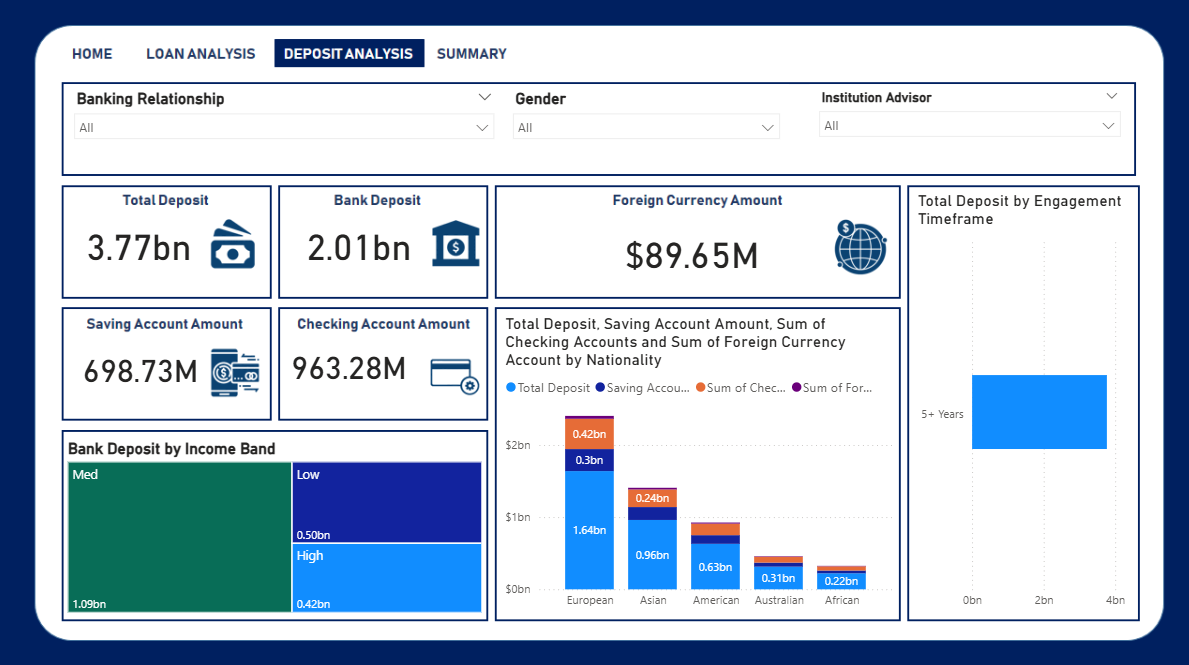

Layout of this report page (visuals, bound fields, positions):
{"tool":"powerbi","page":{"name":"Deposite Analysis","canvas":[1280,720],"ordinal":2},"visuals":[{"type":"actionButton","box":[63.3,36.7,76.7,41.7],"z":0},{"type":"actionButton","box":[151.7,38.3,131.7,40],"z":1000},{"type":"actionButton","box":[458.3,38.3,101.7,40],"z":2000},{"type":"card","fields":{"Values":["banking_case customer.Total Deposit"]},"box":[80,205,143.3,115],"z":3000},{"type":"card","fields":{"Values":["Sum(banking_case customer.Bank Deposits)"]},"box":[315,205,143.3,115],"z":4000},{"type":"card","fields":{"Values":["banking_case customer.Saving Account Amount"]},"box":[70,336.7,165,115],"z":5000},{"type":"card","fields":{"Values":["Sum(banking_case customer.Checking Accounts)"]},"box":[291.7,335,166.7,115],"z":6000},{"type":"treemap","title":"Bank Deposit by Income Band","fields":{"Group":["banking_case customer.Income Band"],"Values":["Sum(banking_case customer.Bank Deposits)"]},"box":[70,470,451.7,190],"z":7000},{"type":"columnChart","fields":{"Category":["banking_case customer.Nationality"],"Y":["banking_case customer.Total Deposit","banking_case customer.Saving Account Amount","Sum(banking_case customer.Checking Accounts)","Sum(banking_case customer.Foreign Currency Account)"]},"box":[536.7,336.7,423.3,323.3],"z":8000},{"type":"card","fields":{"Values":["Sum(banking_case customer.Foreign Currency Account)"]},"box":[621.7,221.7,240,100],"z":9000},{"type":"slicer","fields":{"Values":["banking_case customer.BRId"]},"box":[71.7,91.7,468.3,88.3],"z":10000},{"type":"slicer","fields":{"Values":["banking_case customer.GenderId"]},"box":[540,91.7,305,88.3],"z":11000},{"type":"slicer","fields":{"Values":["banking_case customer.IAId"]},"box":[866.7,91.7,341.7,88.3],"z":12000},{"type":"clusteredBarChart","fields":{"Category":["banking_case customer.Engagement Timeframe"],"Y":["banking_case customer.Total Deposit"]},"box":[976.7,205,231.7,455],"z":13000}]}

Visuals, with their boxes in screenshot pixels (x1, y1, x2, y2), scaled from the page's 1280x720 canvas onto the 1189x665 screenshot:
actionButton: Rect(59, 34, 130, 72)
actionButton: Rect(141, 35, 263, 72)
actionButton: Rect(426, 35, 520, 72)
card - banking_case customer.Total Deposit: Rect(74, 189, 207, 296)
card - Sum(banking_case customer.Bank Deposits): Rect(293, 189, 426, 296)
card - banking_case customer.Saving Account Amount: Rect(65, 311, 218, 417)
card - Sum(banking_case customer.Checking Accounts): Rect(271, 309, 426, 416)
"Bank Deposit by Income Band" treemap: Rect(65, 434, 485, 610)
columnChart - banking_case customer.Nationality x banking_case customer.Total Deposit: Rect(499, 311, 892, 610)
card - Sum(banking_case customer.Foreign Currency Account): Rect(578, 205, 800, 297)
slicer - banking_case customer.BRId: Rect(67, 85, 502, 166)
slicer - banking_case customer.GenderId: Rect(502, 85, 785, 166)
slicer - banking_case customer.IAId: Rect(805, 85, 1122, 166)
clusteredBarChart - banking_case customer.Engagement Timeframe x banking_case customer.Total Deposit: Rect(907, 189, 1122, 610)
